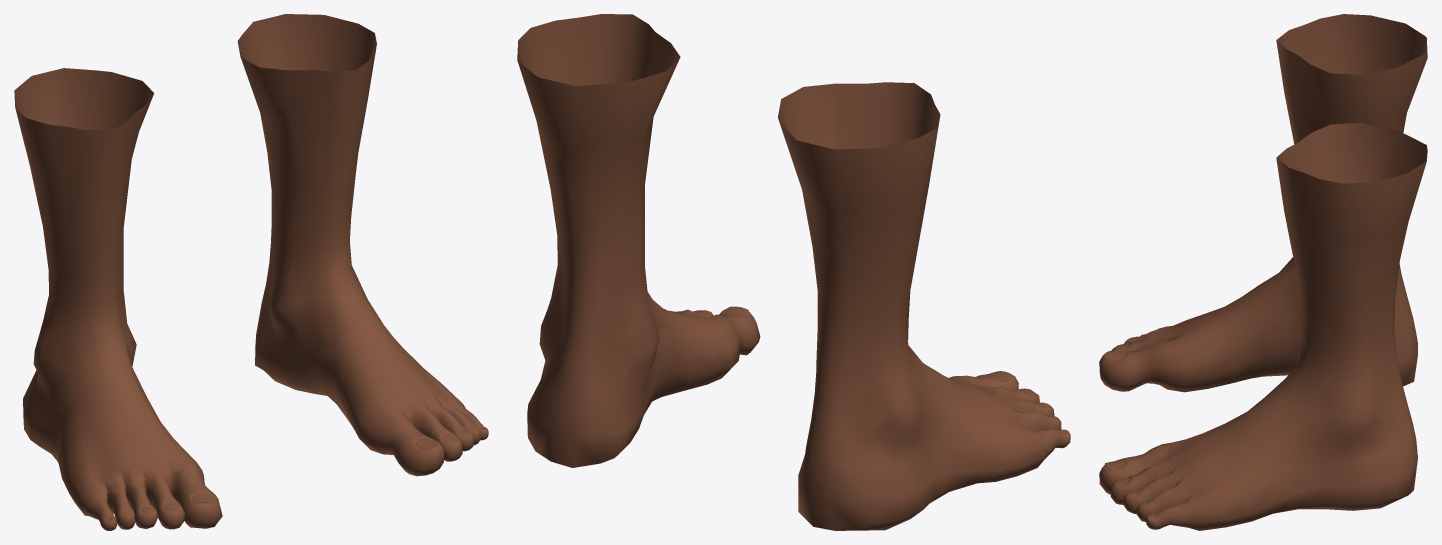
The model's file is feet.fbx.
3 views of the same model, side by side, from view 1: azimuth 30°, elevation 25°; view 2: azimuth 150°, elevation 25°; view 3: azimuth 270°, elevation 25° (orthographic). The views are drawn at different scales.
Visible parts, largest first — view 1: Body_M_GeoRndr; view 2: Body_M_GeoRndr; view 3: Body_M_GeoRndr.
Boxes of the visible parts, left/top/right/bottom form: Body_M_GeoRndr: left=14, top=14, right=488, bottom=530; Body_M_GeoRndr: left=517, top=14, right=1070, bottom=530; Body_M_GeoRndr: left=1099, top=14, right=1427, bottom=530.
Size of the model in its own units: 4.26 by 3.65 by 3.16.
